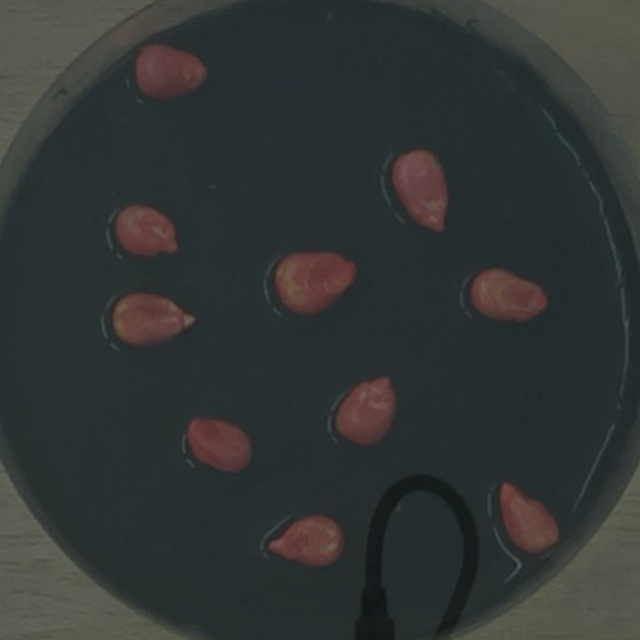Zea mays: (264, 243, 367, 324), (385, 142, 458, 242), (326, 368, 405, 454), (489, 477, 567, 564), (105, 287, 203, 354), (461, 261, 554, 330), (255, 508, 352, 574), (126, 38, 214, 107), (179, 409, 260, 482), (107, 199, 185, 266)
